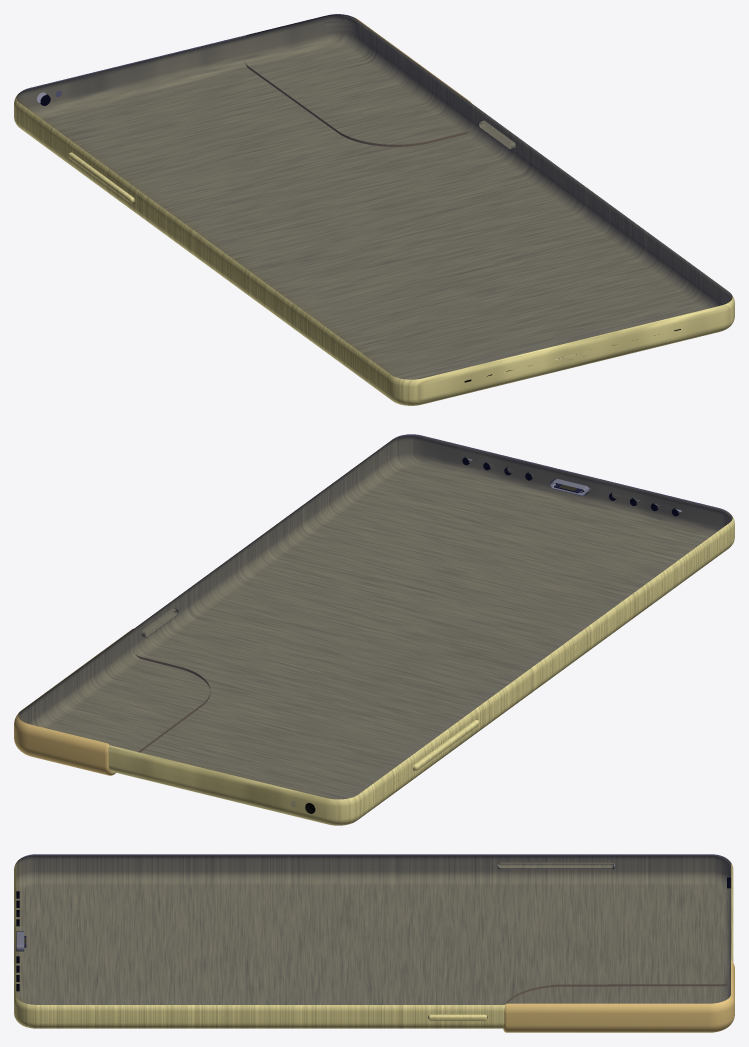
The model's file is Smartphone_S.fbx.
The picture shows the model from 3 angles, top to bottom: view 1: azimuth 30°, elevation 25°; view 2: azimuth 150°, elevation 25°; view 3: azimuth 270°, elevation 25°; orthographic projection. The views are drawn at different scales.
Parts seen in each view (by area): view 1: Smartphone_S; view 2: Smartphone_S; view 3: Smartphone_S.
Boxes of the visible parts, <box> form: Smartphone_S: <box>14,14,734,405</box>; Smartphone_S: <box>14,434,734,825</box>; Smartphone_S: <box>14,854,734,1032</box>.
Size of the model in its own units: 0.1674 by 0.3308 by 0.0186.
